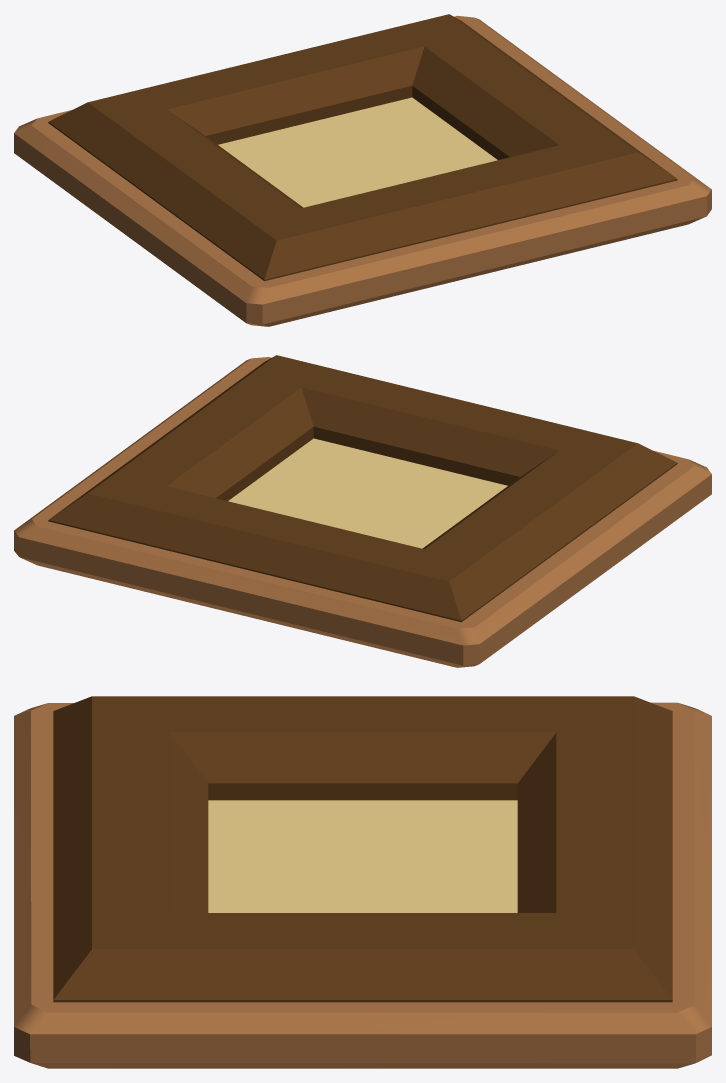
File: schilderijv6.fbx
The picture shows the model from 3 angles, top to bottom: view 1: azimuth 30°, elevation 25°; view 2: azimuth 150°, elevation 25°; view 3: azimuth 270°, elevation 25°; orthographic projection. The views are drawn at different scales.
Parts seen in each view (by area): view 1: pPipe4, pPipe3, pPlane3; view 2: pPipe4, pPipe3, pPlane3; view 3: pPipe4, pPipe3, pPlane3.
Part boxes in pixels (left/top/right/bottom): pPipe4: left=48, top=14, right=677, bottom=281; pPipe3: left=14, top=15, right=711, bottom=326; pPlane3: left=218, top=97, right=497, bottom=207; pPipe4: left=48, top=355, right=677, bottom=622; pPipe3: left=14, top=357, right=711, bottom=667; pPlane3: left=228, top=438, right=507, bottom=548; pPipe4: left=53, top=696, right=672, bottom=1002; pPipe3: left=14, top=702, right=711, bottom=1068; pPlane3: left=208, top=800, right=517, bottom=912.
Size of the model in its own units: 6.2 by 0.8097 by 5.61.
